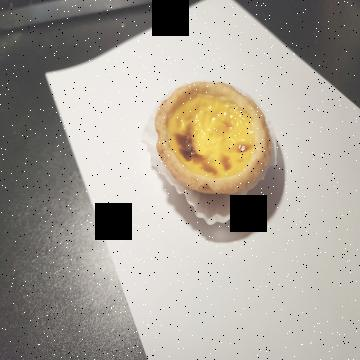EggTart: (154, 80, 270, 197)
